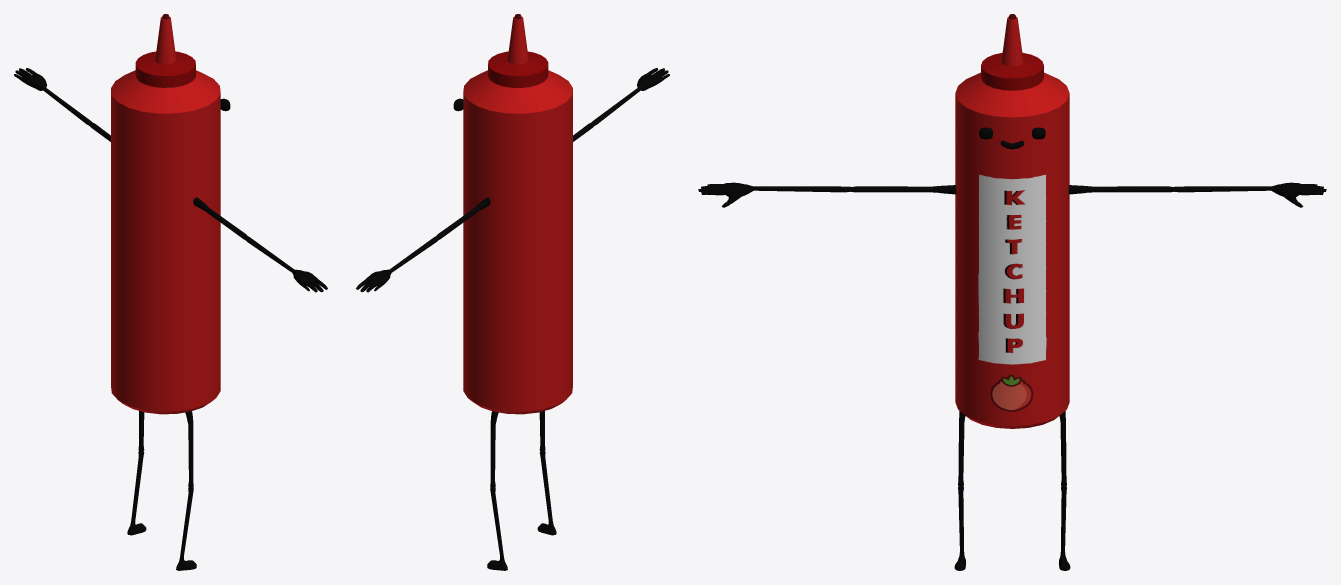
Rendered from scene_ykdYoXpuTM.glb.
3 views of the same model, side by side, from view 1: azimuth 30°, elevation 25°; view 2: azimuth 150°, elevation 25°; view 3: azimuth 270°, elevation 25° (orthographic). The views are drawn at different scales.
Visible parts, largest first — view 1: _100Avatars_134_CoolKetchup; view 2: _100Avatars_134_CoolKetchup; view 3: _100Avatars_134_CoolKetchup.
Boxes of the visible parts, x1,y1,x2,y2 form: _100Avatars_134_CoolKetchup: (14,14,327,570); _100Avatars_134_CoolKetchup: (356,14,669,570); _100Avatars_134_CoolKetchup: (698,14,1326,570).
Bounding box in the file's own units: 1.03 × 5.36 × 5.51.
Materials: 1 (1 with a texture image).
